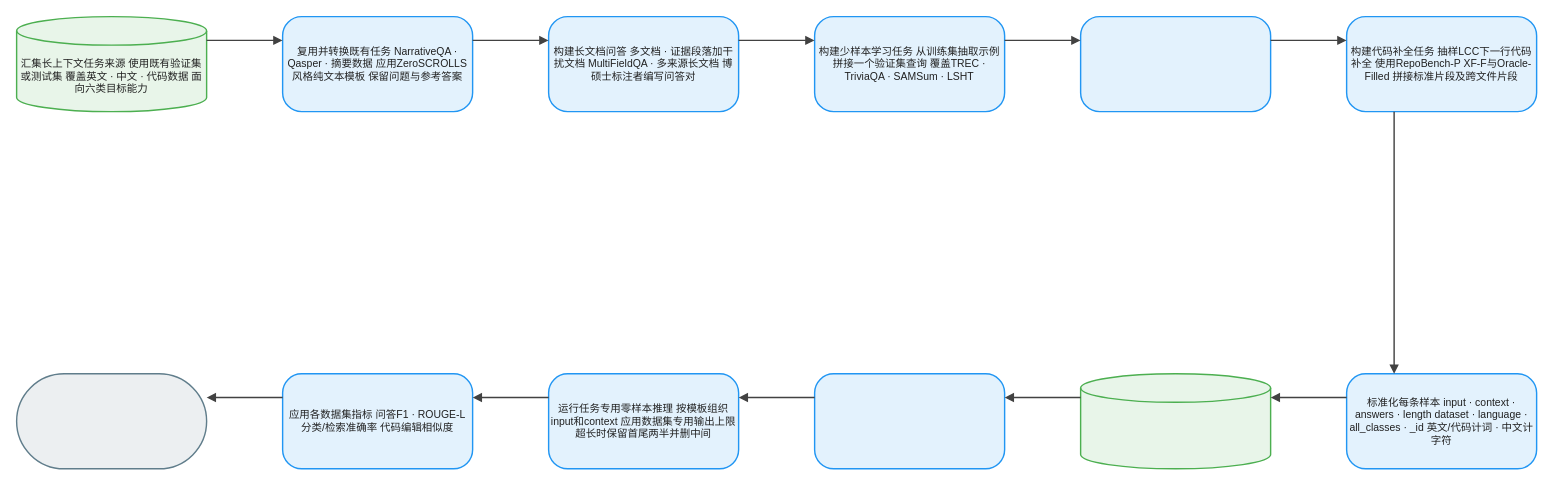
Some shapes in this 1554 by 486 pixel diagram are drawn without their labels. Each missing label, with the centre of its shape:
发布LongBench 21个数据集 · 4,750条测试样本 14个英文 · 5个中文 · 2个代码任务 覆盖六类长上下文场景: the point at 1175,421
可选构建LongBench-E 选取13个适用数据集 每个长度档最多采样100条 0–4k · 4–8k · 8k+: the point at 909,421
报告长上下文表现 数据集与类别平均分 分别展示英文与中文结果 LongBench-E按长度档报告: the point at 111,421
构建合成检索与计数任务 抽取Wikipedia或中文C4段落 GPT-3.5-Turbo摘要其中一段 PassageCount随机重复并打乱段落: the point at 1175,63
